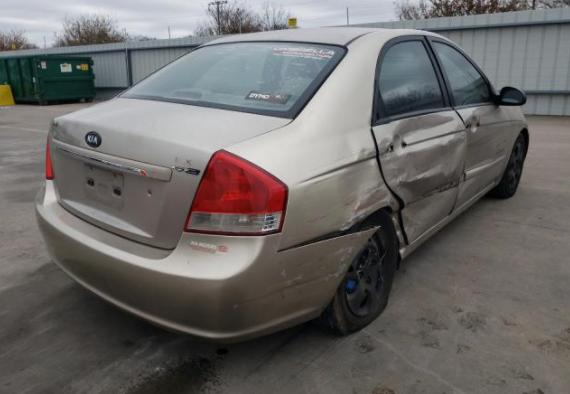Broken part: (368, 35, 470, 251), (262, 210, 380, 255)
Dent: (379, 113, 467, 245), (337, 147, 399, 231), (457, 111, 495, 198), (50, 120, 82, 147)
Missing part: (82, 164, 124, 209), (390, 142, 406, 152), (468, 123, 480, 128)
Scratch: (235, 273, 338, 306), (307, 181, 383, 222), (338, 196, 389, 233), (423, 177, 459, 196), (303, 171, 342, 186), (324, 150, 358, 165), (471, 132, 491, 146), (438, 183, 458, 194), (284, 275, 303, 285), (335, 264, 347, 279), (479, 137, 495, 147), (399, 247, 406, 258), (495, 149, 504, 156), (337, 246, 346, 253), (492, 144, 499, 152), (347, 246, 354, 254), (281, 268, 286, 278), (52, 122, 59, 129)
